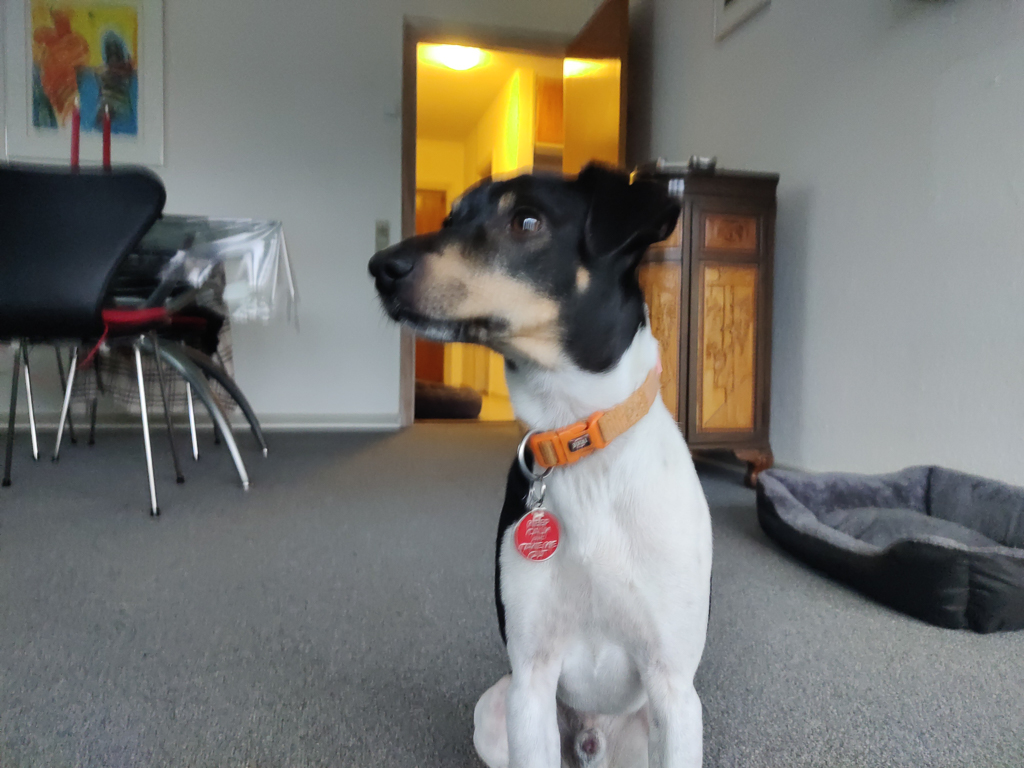Dog: (347, 134, 742, 768)
